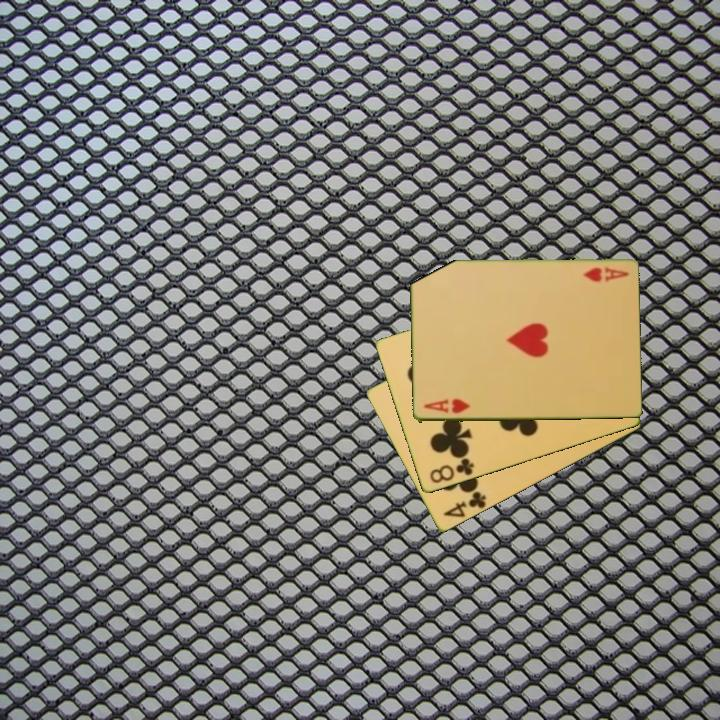4c: (440, 488, 489, 521)
8c: (426, 455, 477, 487)
Ah: (420, 396, 472, 417), (579, 264, 631, 283)
